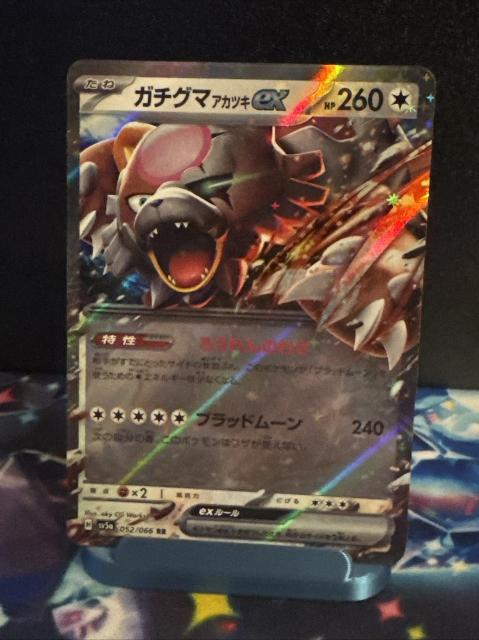Card: (62, 51, 440, 572)
Name: (130, 82, 295, 117)
